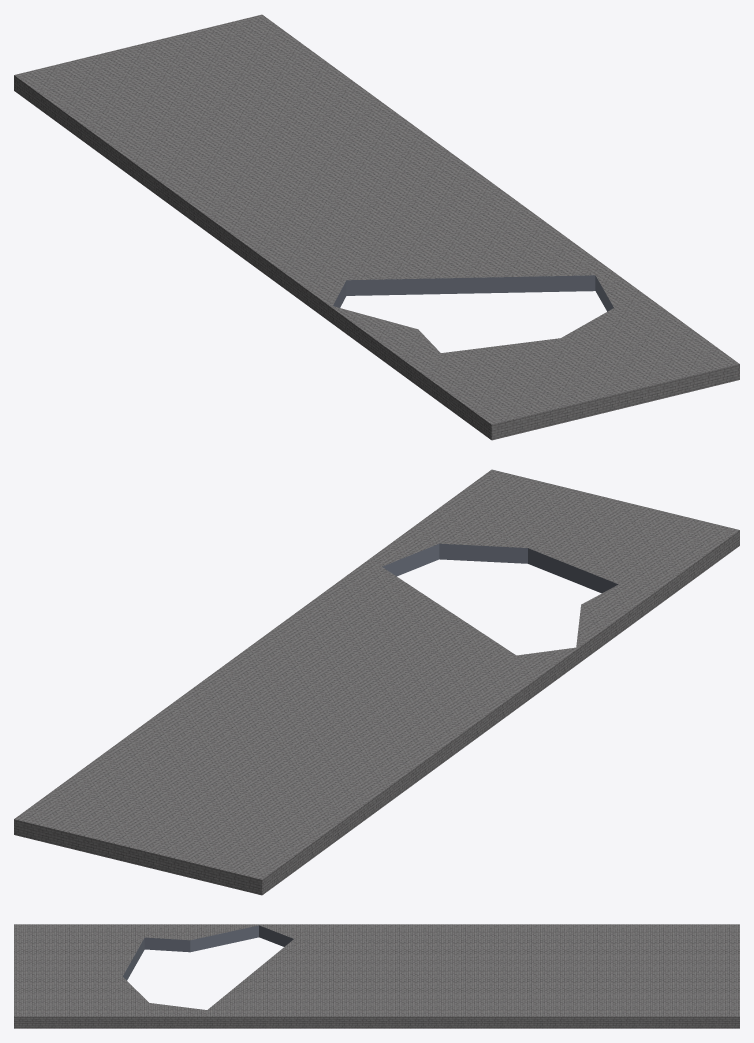
Rendered from Hole.fbx.
3 views of the same model, one above another, from view 1: azimuth 30°, elevation 25°; view 2: azimuth 150°, elevation 25°; view 3: azimuth 270°, elevation 25° (orthographic). The views are drawn at different scales.
Parts seen in each view (by area): view 1: Hole; view 2: Hole; view 3: Hole.
Boxes of the visible parts, x1,y1,x2,y2 form: Hole: (14,14,739,440); Hole: (14,469,739,895); Hole: (14,924,739,1028).
Bounding box in the file's own units: 1650 × 100 × 5500.
